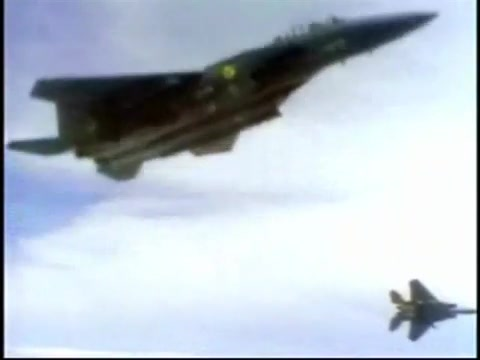aeroplane: (6, 10, 441, 186)
